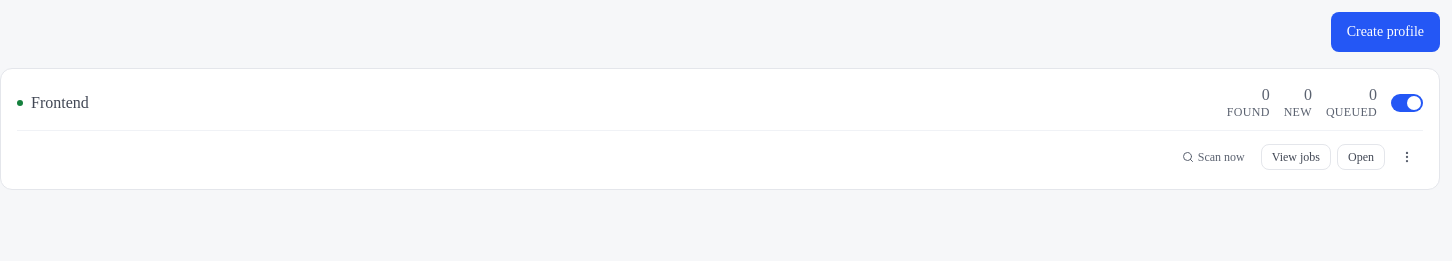
it: ProfileList › removes the row immediately and offers an undo instead of a confirm dialog
The width and height of the screenshot is (1452, 261).
Expected: the link "Frontend" is shown, top-left (31, 90), bottom-right (89, 114)
Click the button named "more actions for frontend" at [1407, 157], box top-left (1391, 141), bottom-right (1423, 173)
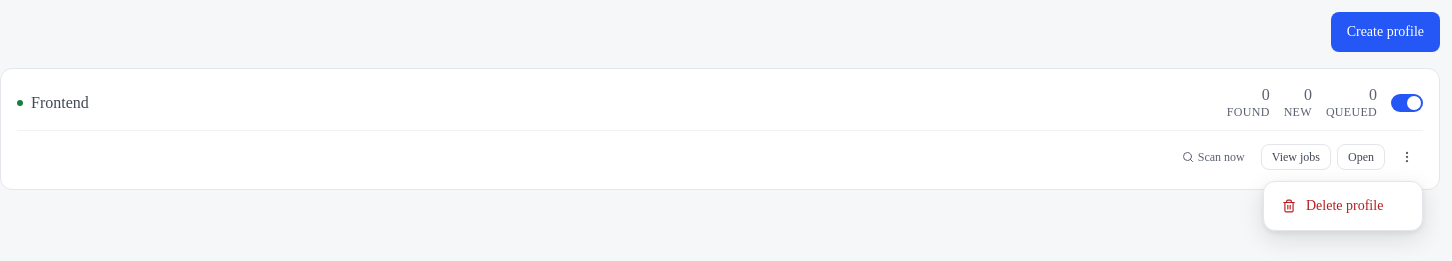
Click the menu item "Delete profile" at [1333, 206], box top-left (1282, 198), bottom-right (1383, 213)
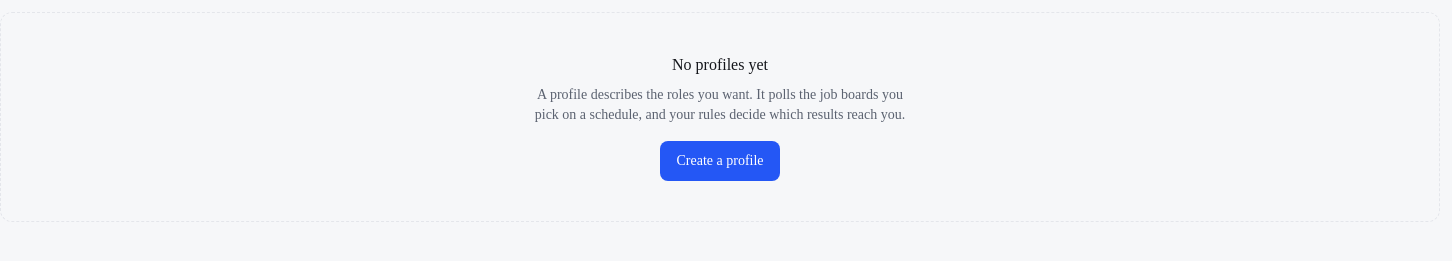
Now the link "Frontend" is gone
